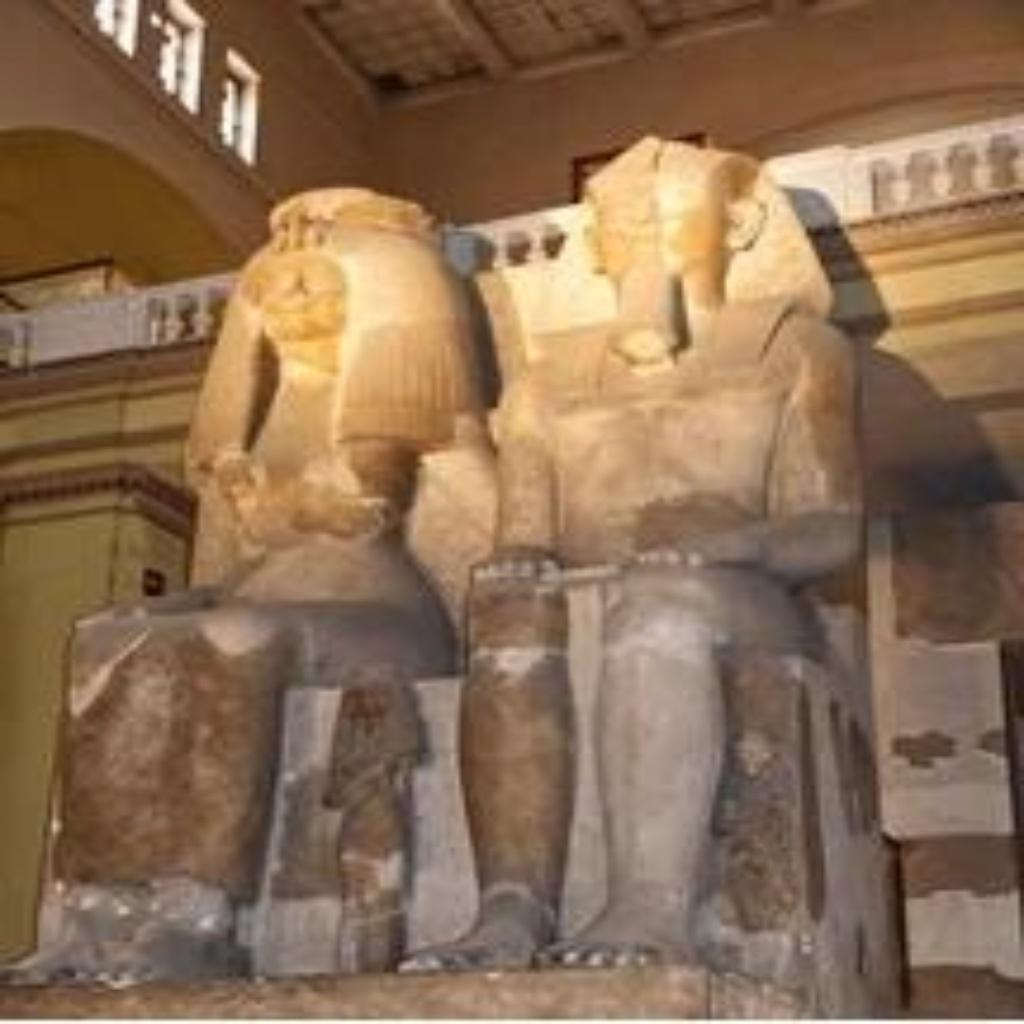Amenhotep III and Tiye: (22, 129, 872, 973)
